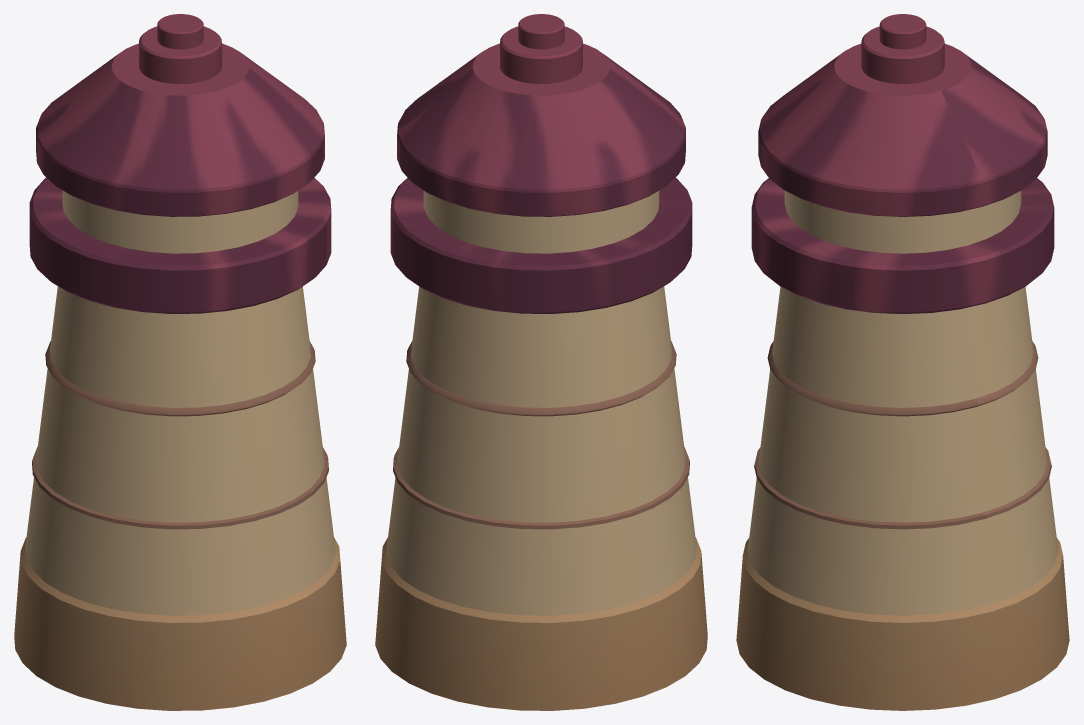
File: mdl_lightHouse.fbx
3 renders of one model, left to right at view 1: azimuth 30°, elevation 25°; view 2: azimuth 150°, elevation 25°; view 3: azimuth 270°, elevation 25°, orthographic.
Parts seen in each view (by area): view 1: mdl_lightHouse, mdl_lightHouse.001; view 2: mdl_lightHouse, mdl_lightHouse.001; view 3: mdl_lightHouse, mdl_lightHouse.001.
Part boxes in pixels (left/top/right/bottom): mdl_lightHouse: left=14, top=14, right=346, bottom=710; mdl_lightHouse.001: left=62, top=190, right=298, bottom=253; mdl_lightHouse: left=375, top=14, right=707, bottom=710; mdl_lightHouse.001: left=423, top=190, right=659, bottom=253; mdl_lightHouse: left=736, top=14, right=1069, bottom=710; mdl_lightHouse.001: left=784, top=191, right=1021, bottom=253.
Size of the model in its own units: 14.36 by 29.36 by 14.36.
